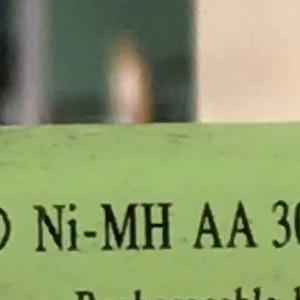keyword: (23, 193, 174, 262)
